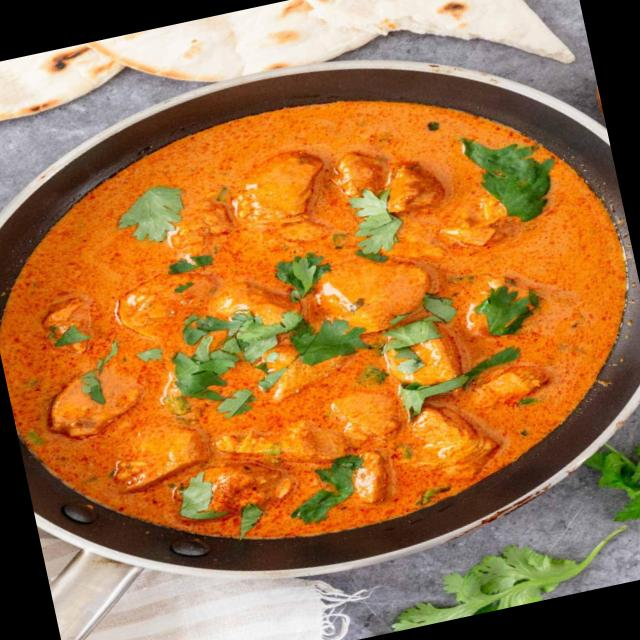chicken: (0, 30, 640, 584)
